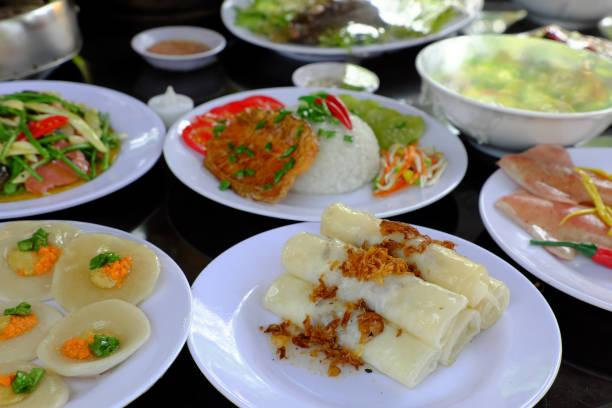Braised Crucian Carp: (186, 220, 562, 407), (164, 86, 465, 222), (0, 220, 196, 408), (0, 80, 162, 224), (416, 32, 610, 150)
